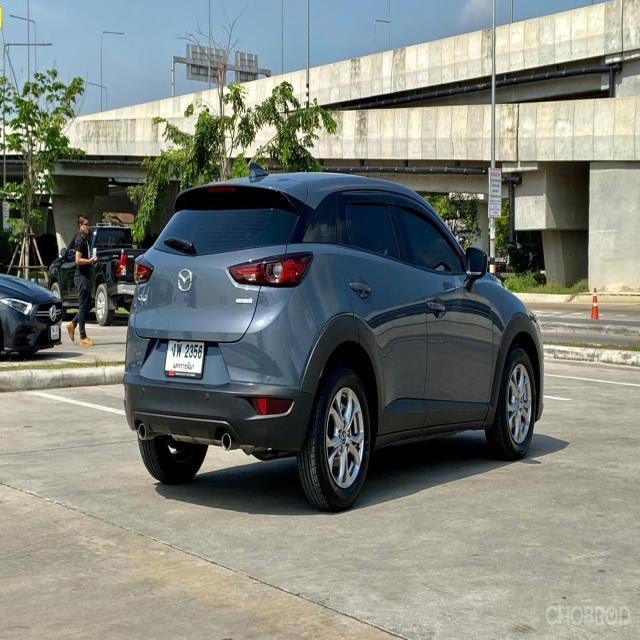license_plate: (165, 335, 204, 380)
